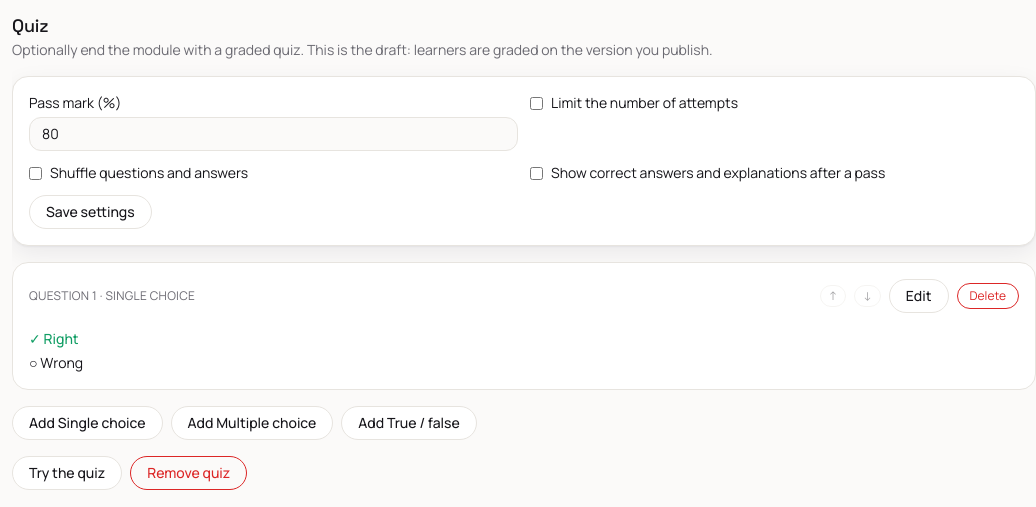
Scenario: ModuleQuizPanel › removing the quiz asks first
Click the button "Remove quiz".
click(189, 473)  # box [130,456,247,490]
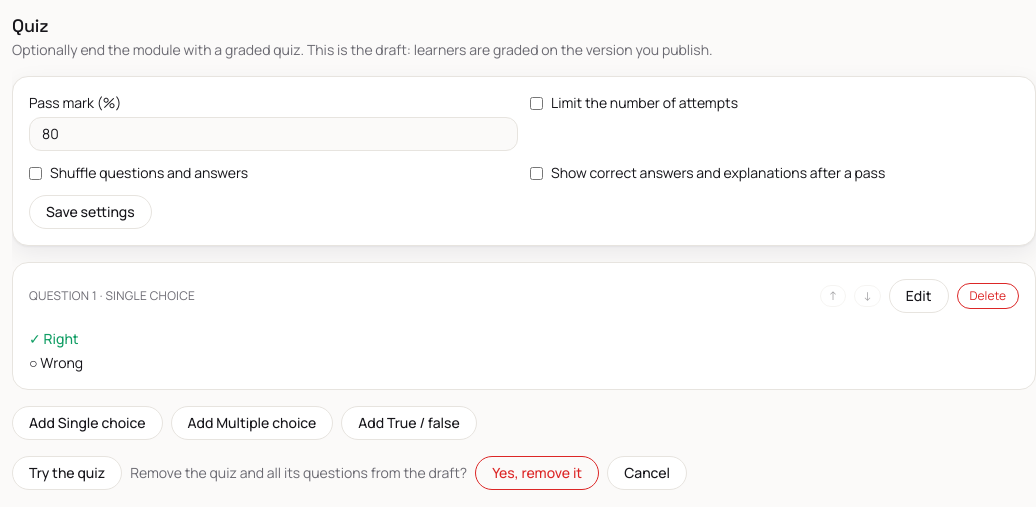
Click the button "Yes, remove it".
click(537, 473)  # box [475,456,599,490]
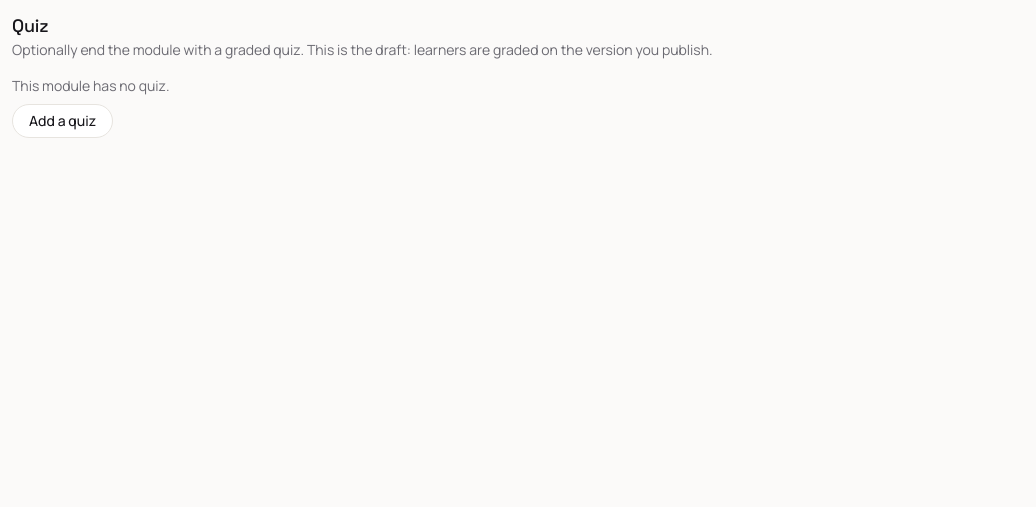
Expected: the text "This module has no quiz." is shown, [12,76,170,96]
